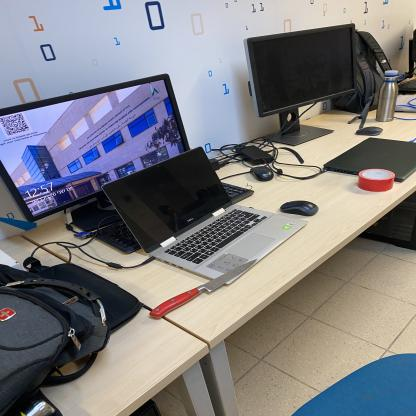Knife: (150, 259, 258, 319)
